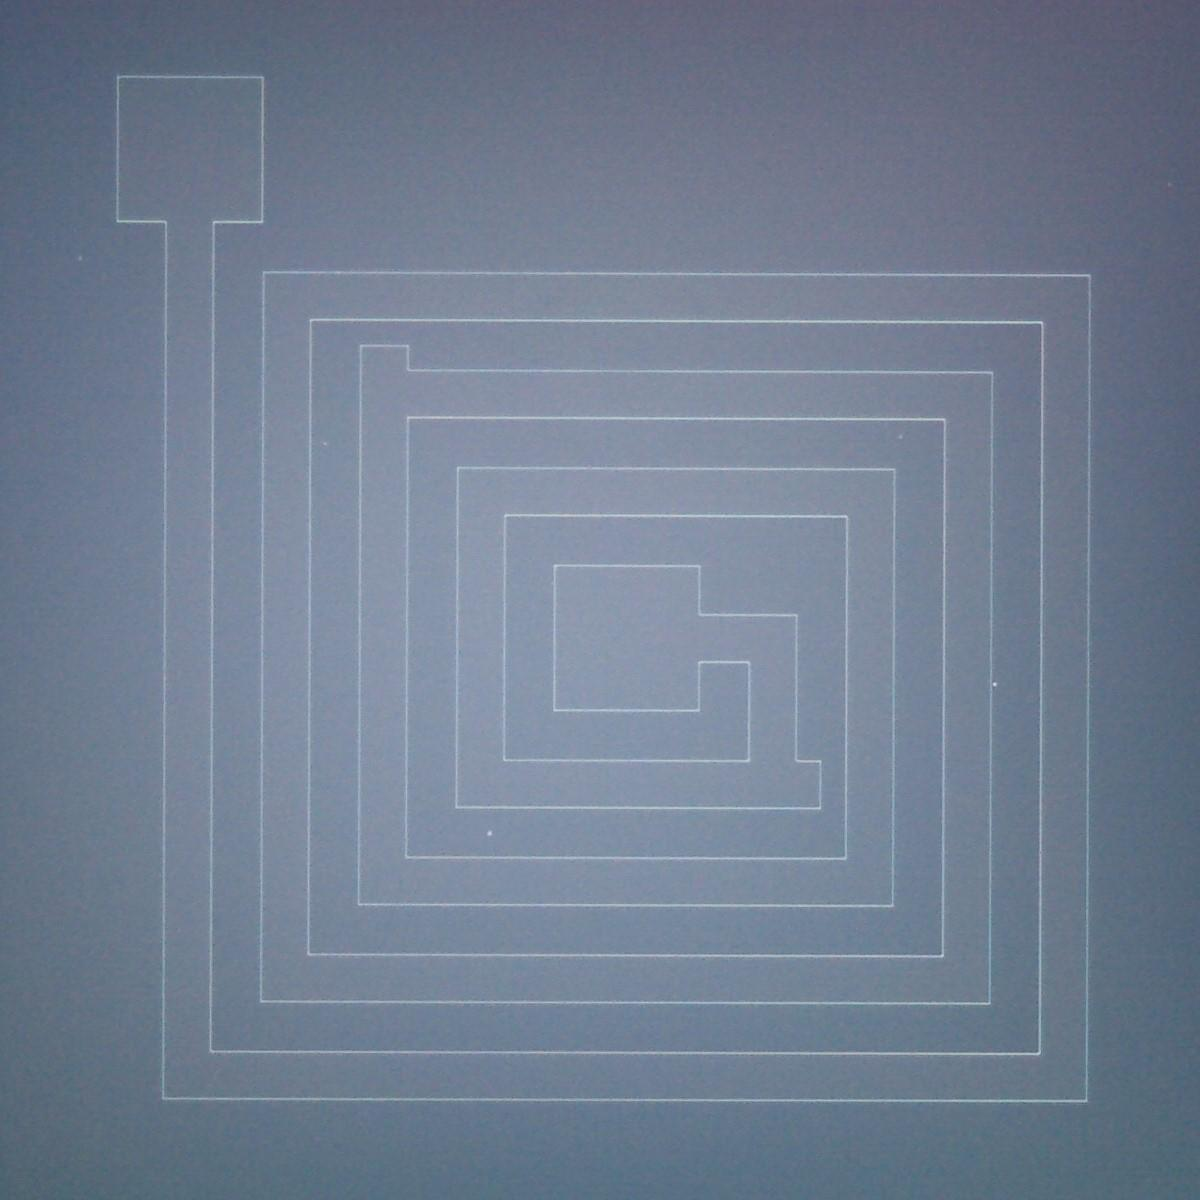project: (731, 743, 832, 826), (349, 333, 427, 438)
s_point: (890, 426, 911, 447), (71, 248, 90, 268), (315, 435, 335, 454), (985, 675, 1004, 693), (480, 825, 499, 843)
